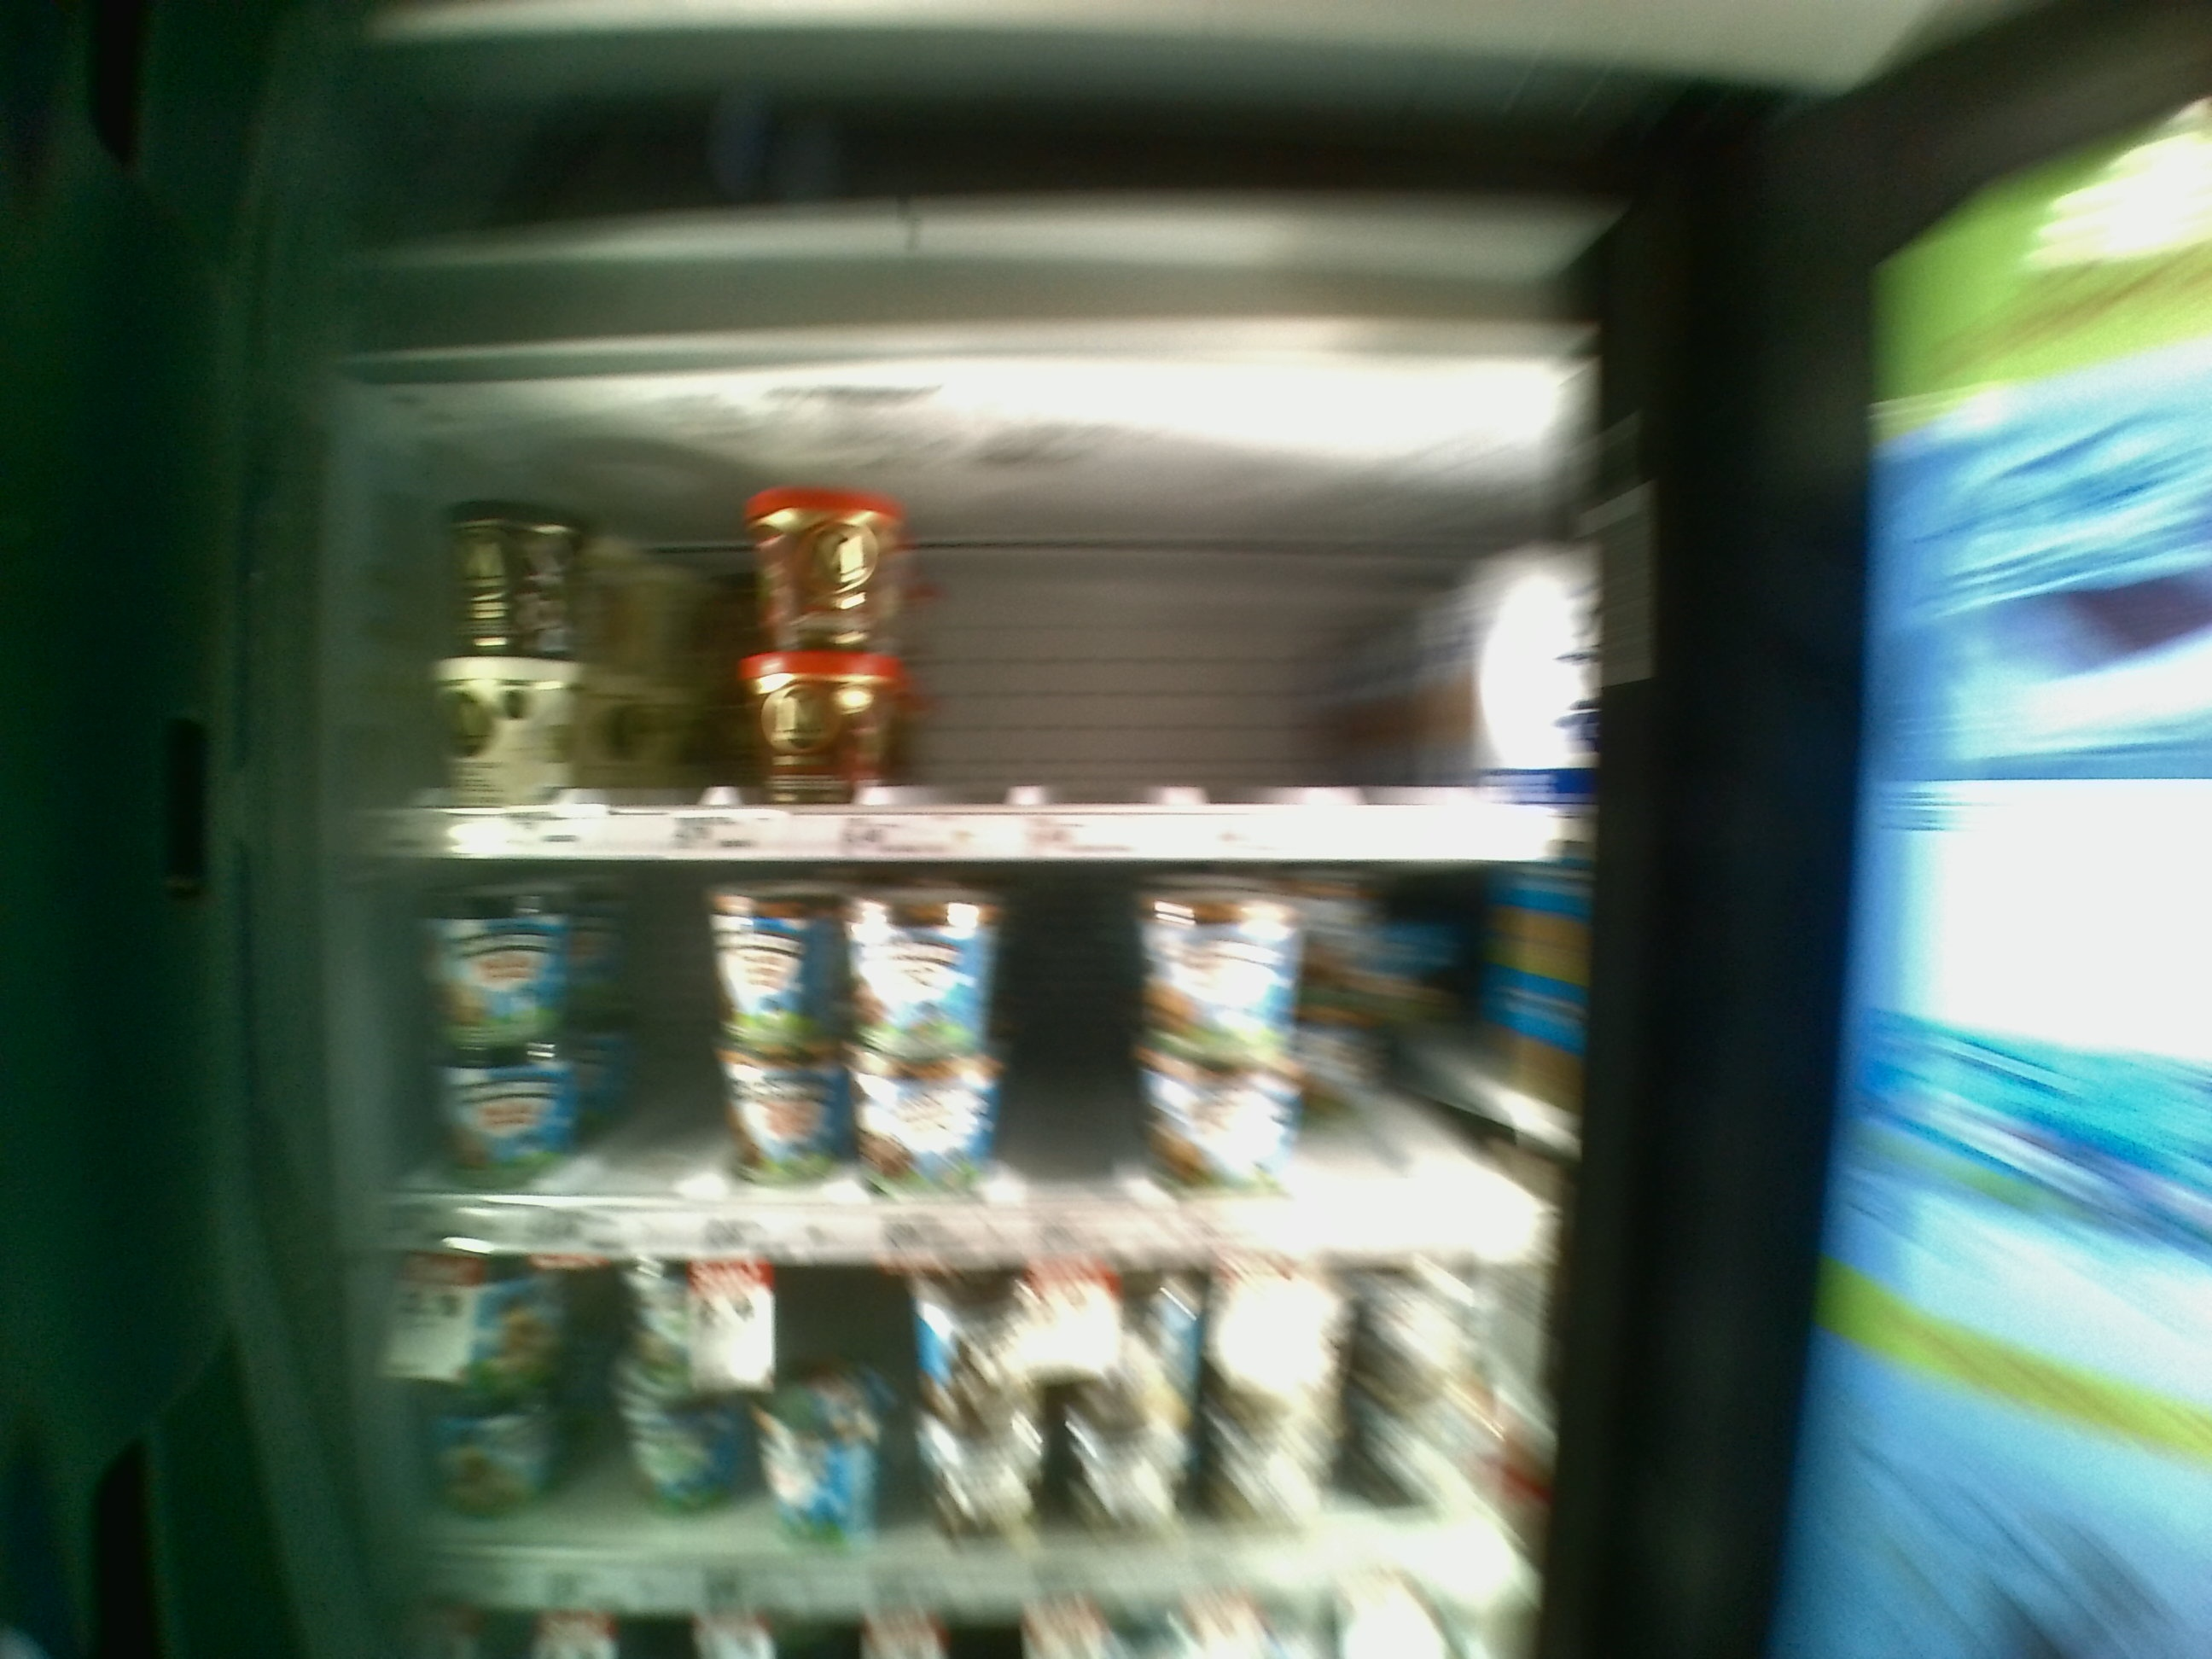shelf: (350, 328, 1606, 863)
